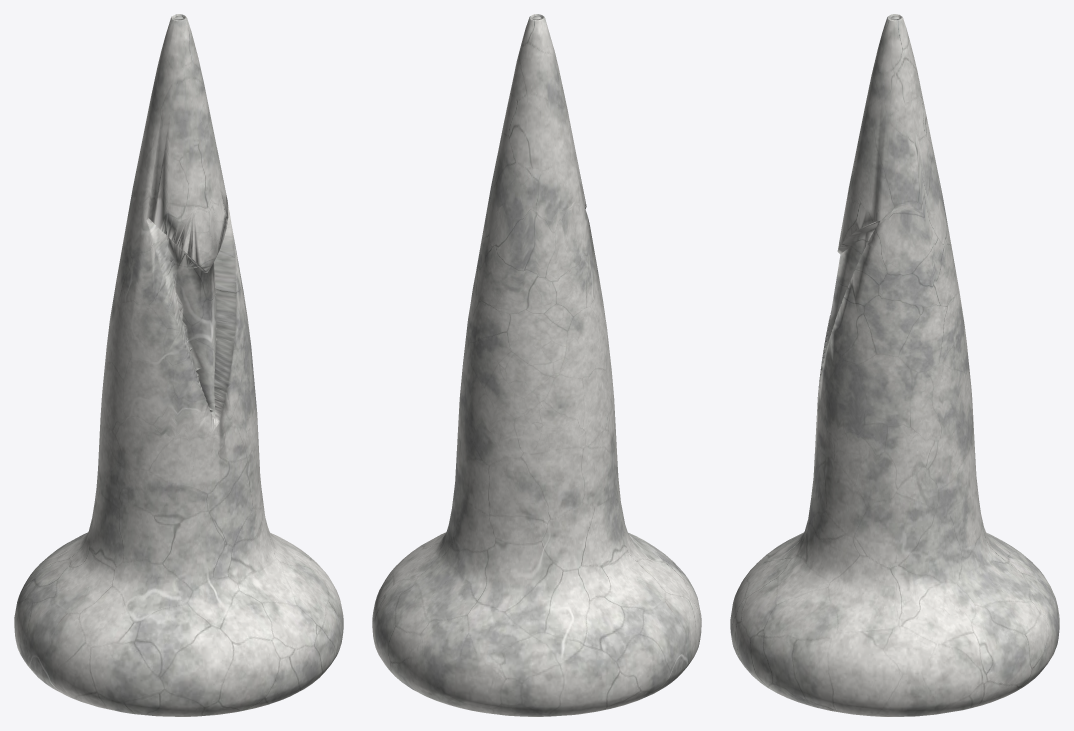
File: king-white.glb
3 renders of one model, left to right at view 1: azimuth 30°, elevation 25°; view 2: azimuth 150°, elevation 25°; view 3: azimuth 270°, elevation 25°, orthographic.
Visible parts, largest first — view 1: Serpentina_king_white; view 2: Serpentina_king_white; view 3: Serpentina_king_white.
Boxes of the visible parts, x1=… form: Serpentina_king_white: x1=14, y1=14, x2=343, y2=716; Serpentina_king_white: x1=372, y1=14, x2=701, y2=716; Serpentina_king_white: x1=730, y1=14, x2=1059, y2=716.
Bounding box in the file's own units: 0.7721 × 1.65 × 0.7725.
1 material, 1 textured.
